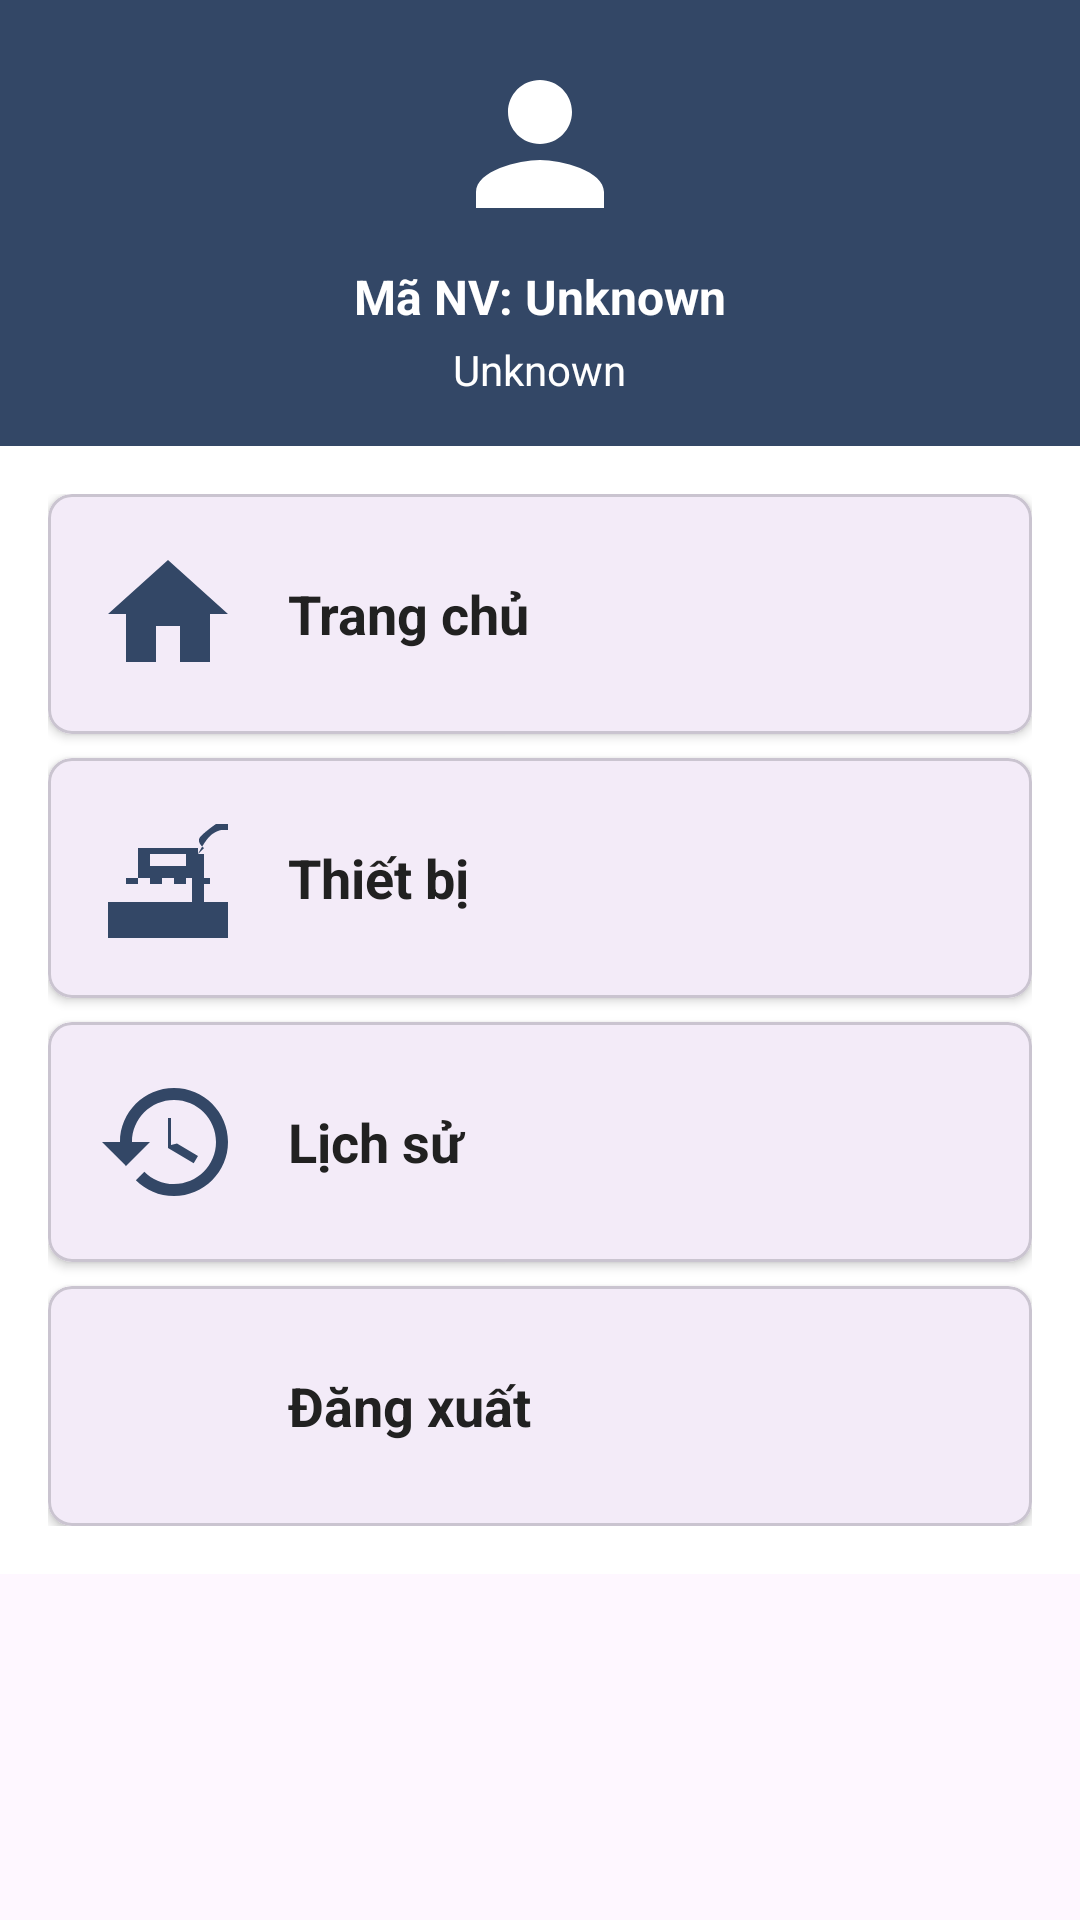

Where icons sit on this 1080x1920 app screen, as {"x1": x1, "y1": y1, "x2": x2, "y2": y2}:
History Icon: {"x1": 102, "y1": 1088, "x2": 228, "y2": 1196}
Home Icon: {"x1": 108, "y1": 560, "x2": 228, "y2": 662}
HÌNH ẢNH NGƯỜI DÙNG: {"x1": 476, "y1": 80, "x2": 604, "y2": 208}
